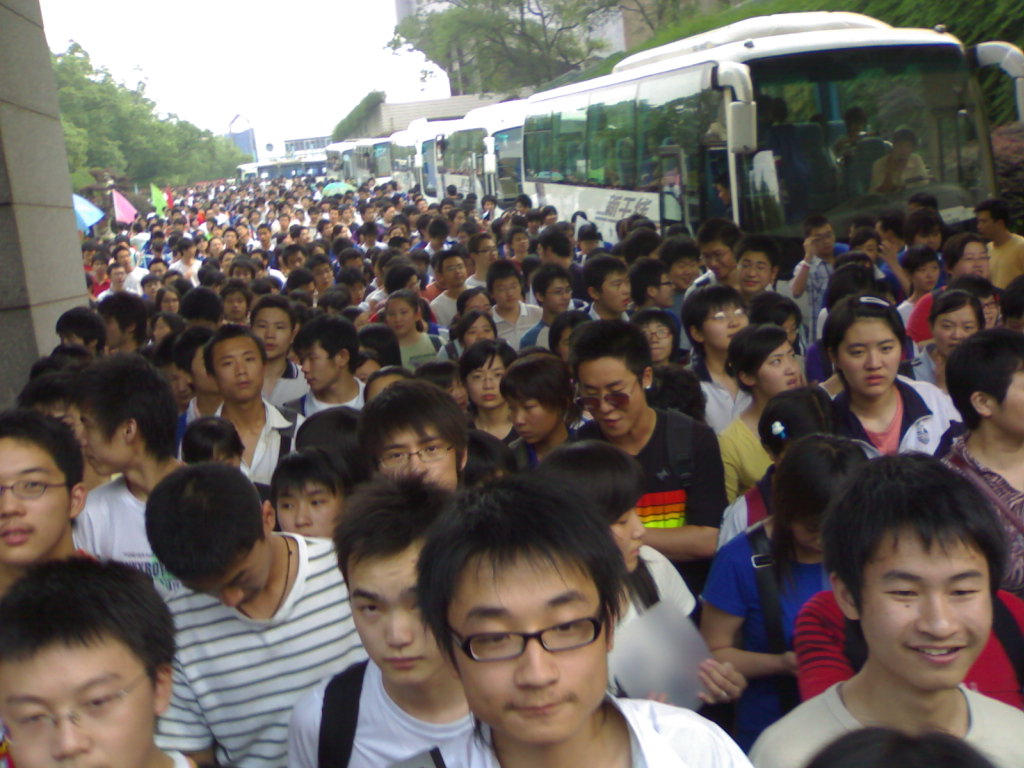without_mask: (455, 590, 600, 722), (5, 670, 147, 766), (348, 562, 439, 679), (890, 565, 983, 674), (1, 456, 72, 557), (373, 424, 448, 491), (587, 378, 642, 431), (278, 484, 330, 533), (216, 346, 262, 396), (848, 339, 894, 387), (943, 306, 977, 356), (509, 399, 550, 439), (764, 351, 801, 394), (296, 345, 333, 385), (713, 306, 745, 349), (470, 365, 503, 405), (738, 252, 772, 290), (668, 250, 703, 285), (257, 318, 289, 356), (604, 277, 636, 315), (961, 241, 987, 277), (914, 250, 938, 289), (542, 283, 574, 311), (465, 319, 497, 346), (386, 302, 414, 332), (813, 227, 840, 257), (226, 289, 251, 319), (495, 278, 518, 305), (441, 259, 464, 285), (310, 263, 332, 287), (157, 292, 179, 314)
